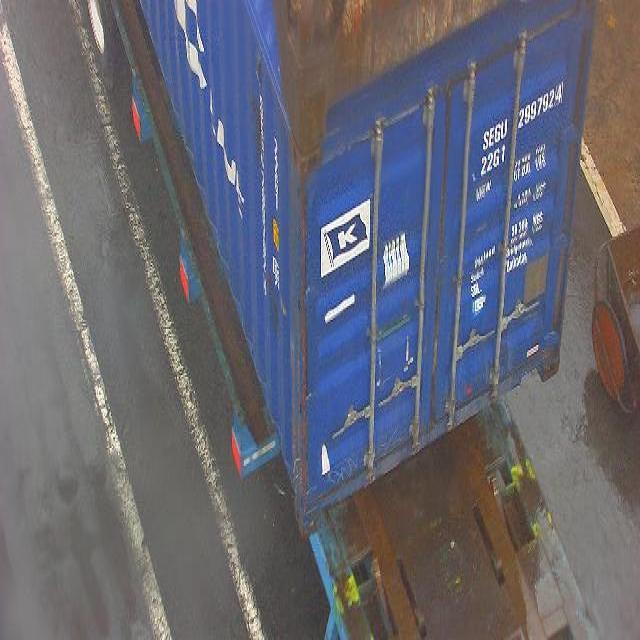ISO: (479, 145, 508, 178)
container_number: (484, 78, 569, 150)
